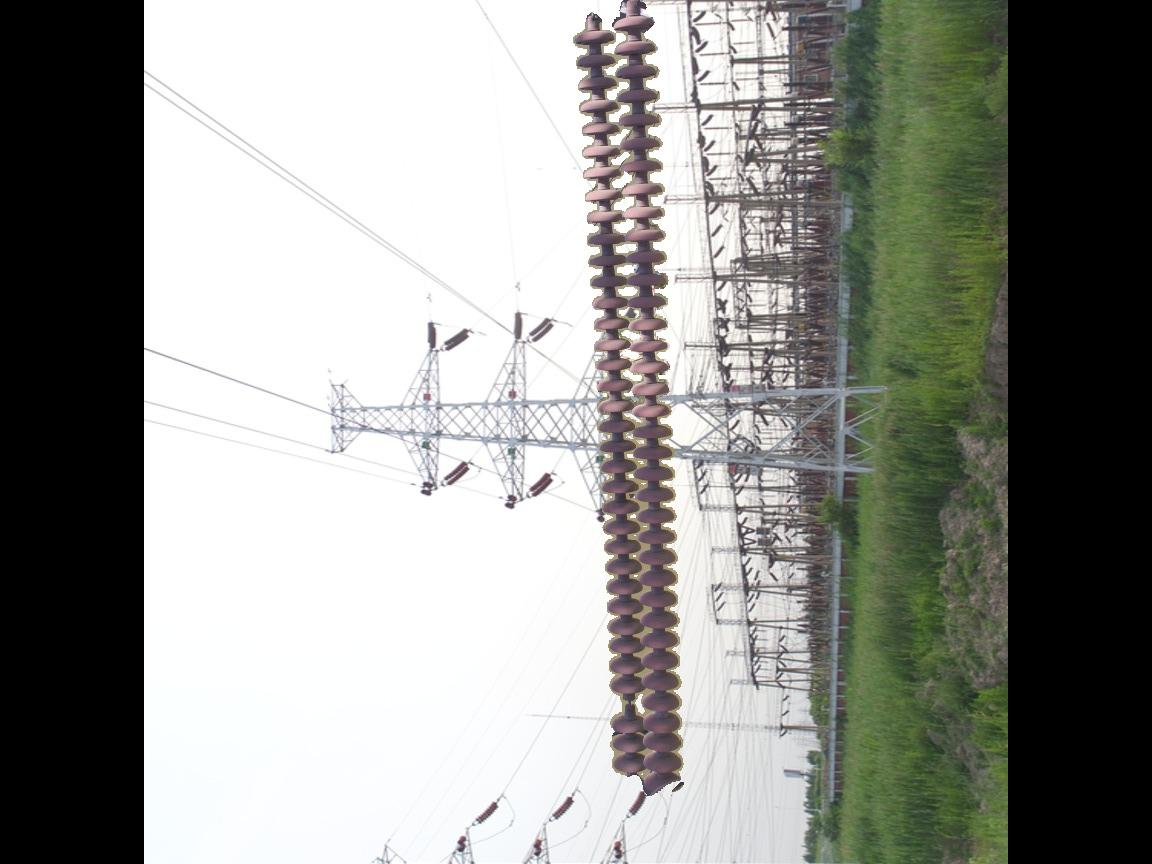insulator: (566, 1, 692, 798)
insulator_stringdrop: (603, 673, 648, 734)
